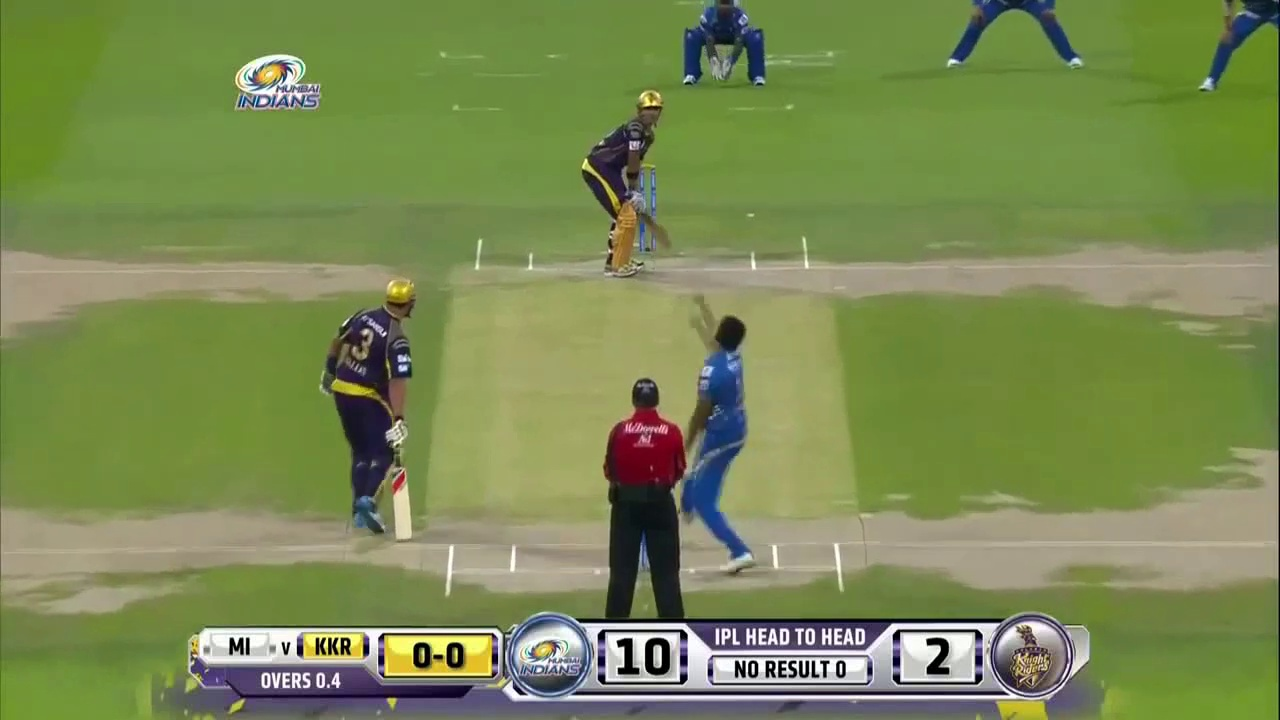bat: (390, 452, 415, 541)
